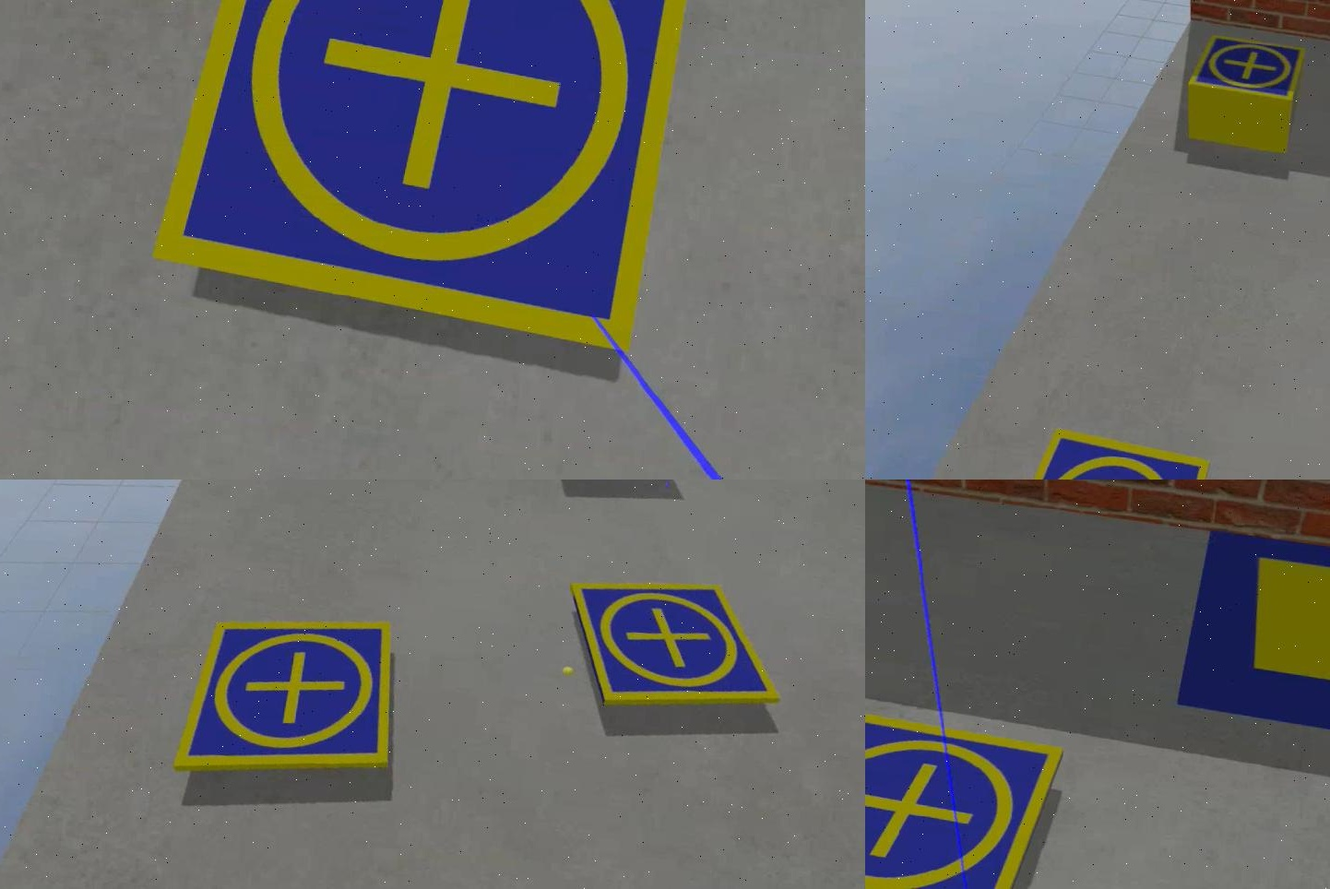large_base: (1172, 528, 1328, 768)
small_base: (145, 1, 705, 363), (166, 601, 402, 790), (864, 705, 1064, 889), (558, 568, 790, 720), (1001, 422, 1211, 480), (1182, 31, 1305, 104)
